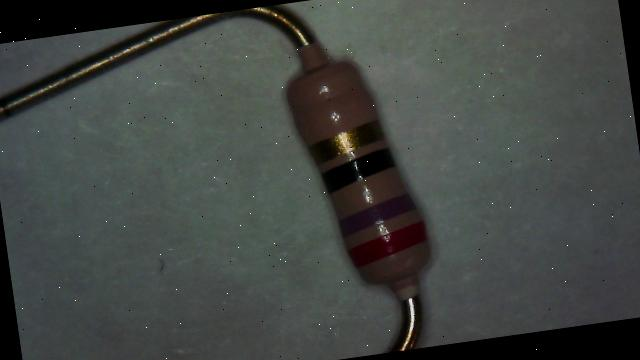black: (319, 146, 396, 194)
gold: (307, 120, 386, 166)
red: (345, 220, 429, 267)
resistor: (244, 28, 453, 304)
violet: (337, 193, 417, 237)
